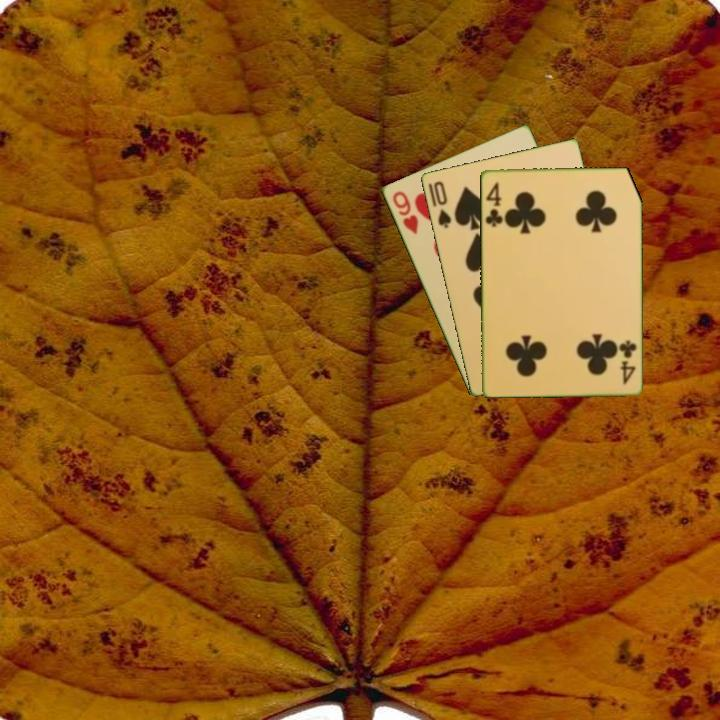10s: (430, 177, 454, 231)
4c: (482, 178, 505, 229), (616, 337, 639, 387)
9h: (389, 187, 421, 237)
